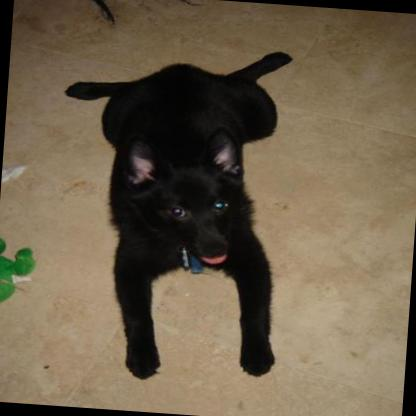schipperke: (38, 34, 298, 384)
